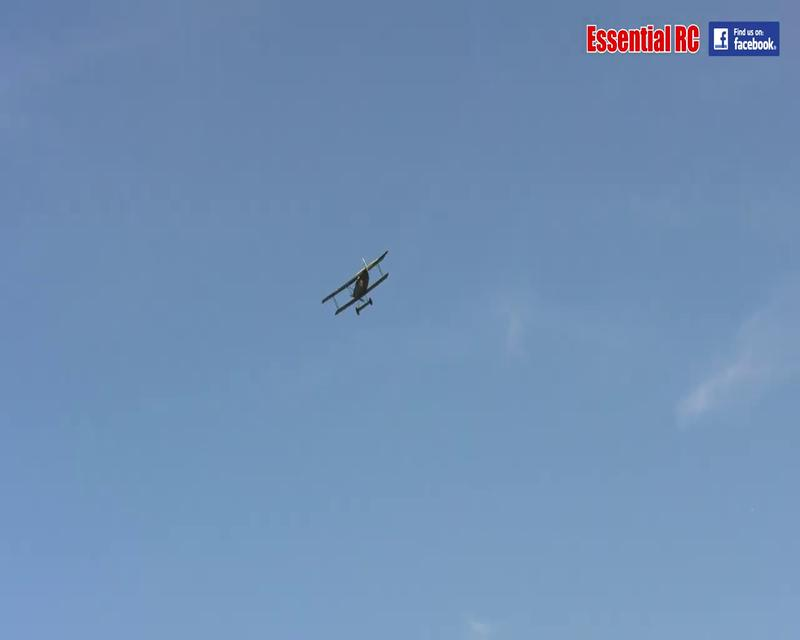UAV: (320, 249, 389, 316)
